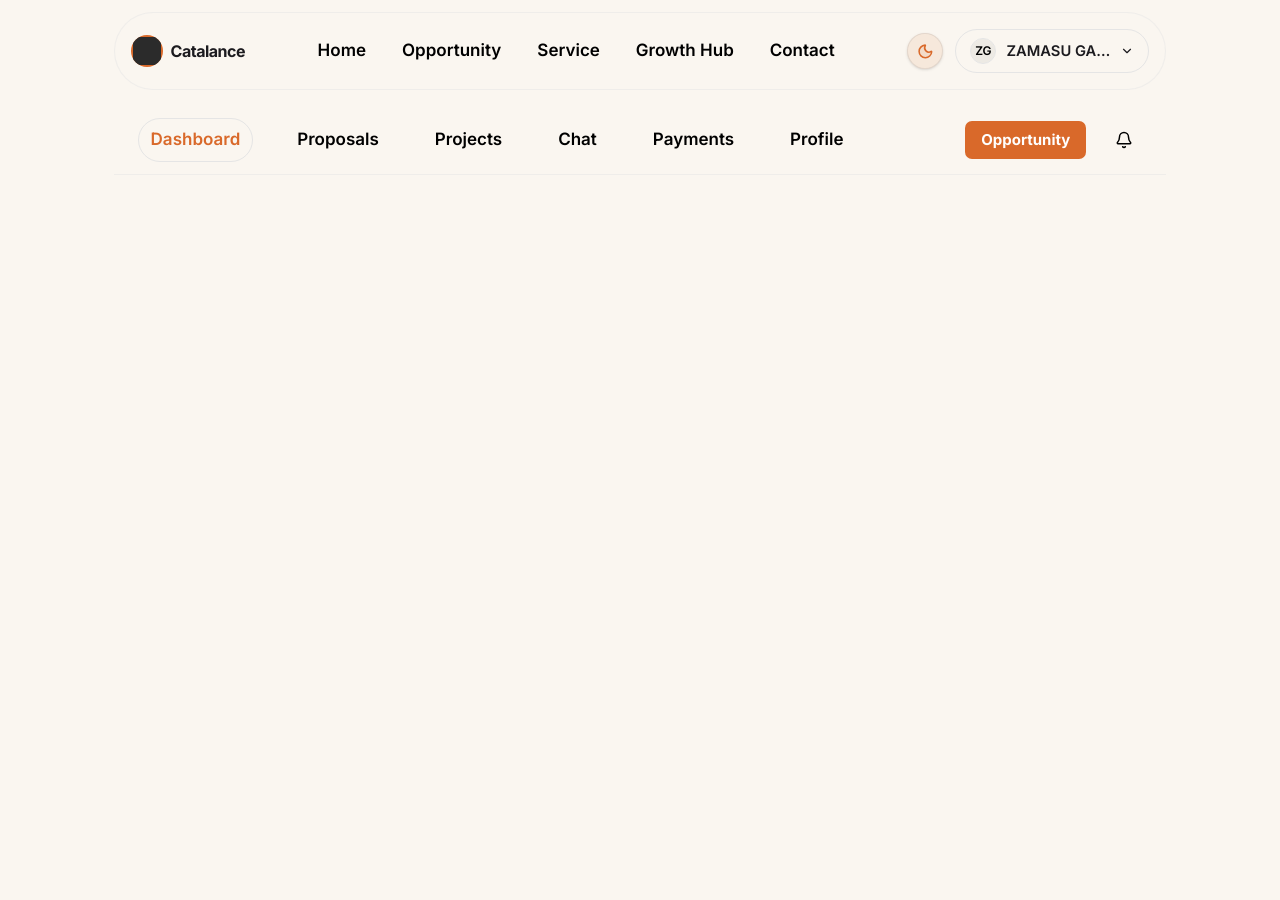
Scenario: workspace header dashboard switching › shows 'Switch to Client' in the freelancer header dropdown
Click the button "ZAMASU GAMING".
click(1052, 51)  # box [955, 29, 1149, 73]
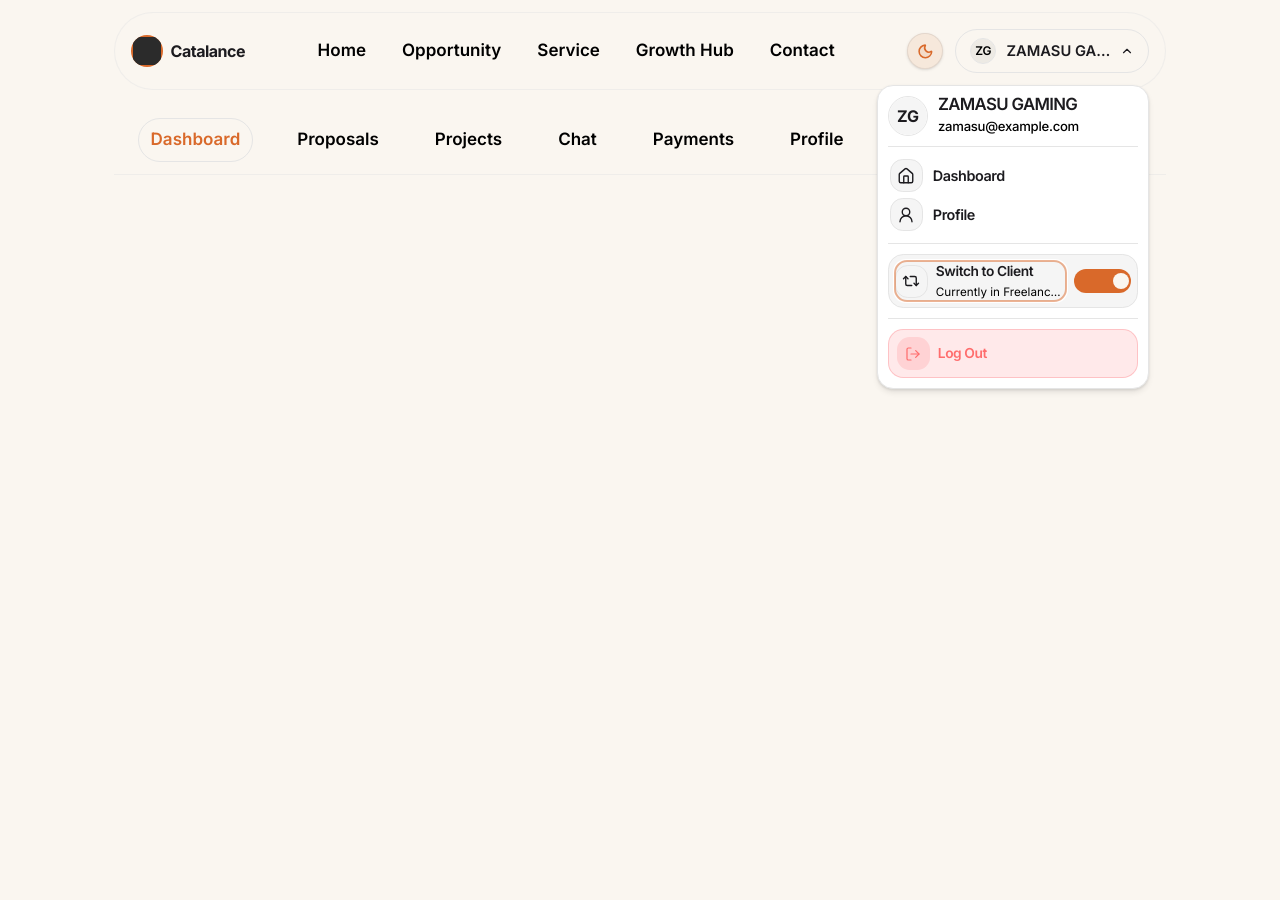
Result: the text "Switch to Client" is shown at [936, 263, 1033, 279]
Result: the text "Currently in Freelancer mode" is shown at [936, 284, 1066, 301]
